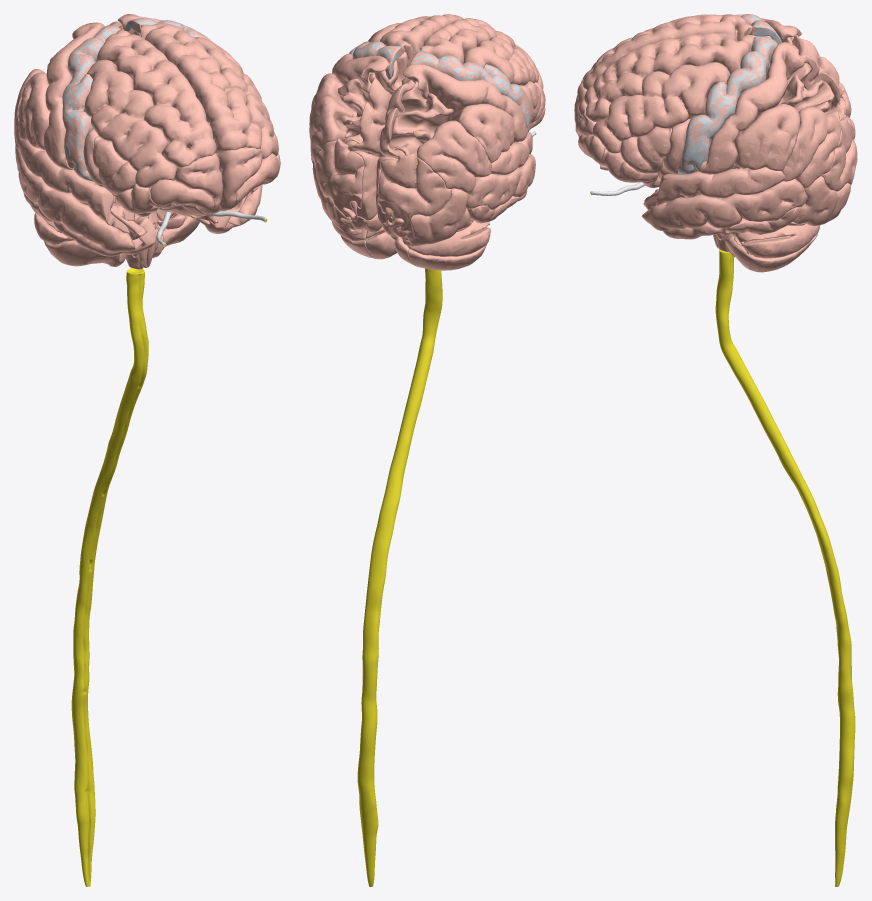
Rendered from nervous.glb.
The picture shows the model from 3 angles, left to right: view 1: azimuth 30°, elevation 25°; view 2: azimuth 150°, elevation 25°; view 3: azimuth 270°, elevation 25°; orthographic projection. The views are drawn at different scales.
Visible parts, largest first — view 1: superior-frontal-gyrus, middle-frontal-gyrus, superior-frontal-gyrus-2, middle-temporal-gyrus, superior-temporal-gyrus, postcentral-gyrus, precentral-gyrus, middle-frontal-gyrus-2, hra10-allen-primary-motor-cortex-l, allen-supramarginal-gyrus-l, allen-rostral-gyrus-r, allen-lateral-hemisphere-of-cerebellum-l (+12 smaller); view 2: superior-occipital-gyrus, allen-angular-gyrus-l, postcentral-gyrus, allen-white-matter-of-forebrain-l, superior-occipital-gyrus-2, allen-lateral-hemisphere-of-cerebellum-l, allen-supramarginal-gyrus-l, allen-white-matter-of-forebrain-r, inferior-occipital-gyrus, middle-frontal-gyrus, superior-frontal-gyrus, middle-temporal-gyrus (+23 smaller); view 3: middle-frontal-gyrus-2, superior-frontal-gyrus-2, middle-temporal-gyrus-2, postcentral-gyrus-2, allen-supramarginal-gyrus-r, allen-angular-gyrus-r, superior-temporal-gyrus-2, hra10-allen-primary-motor-cortex-r, allen-lateral-hemisphere-of-cerebellum-r, superior-frontal-gyrus, precentral-gyrus-2, allen-white-matter-of-forebrain-r (+8 smaller).
Part boxes in pixels (box(x1,y1,x2,y2)): superior-frontal-gyrus: box(96, 30, 216, 167); middle-frontal-gyrus: box(84, 59, 177, 187); superior-frontal-gyrus-2: box(140, 23, 262, 154); middle-temporal-gyrus: box(15, 147, 142, 252); superior-temporal-gyrus: box(18, 139, 129, 234); postcentral-gyrus: box(43, 22, 104, 169); precentral-gyrus: box(62, 25, 120, 180); middle-frontal-gyrus-2: box(195, 37, 278, 158); hra10-allen-primary-motor-cortex-l: box(62, 25, 119, 181); allen-supramarginal-gyrus-l: box(18, 72, 50, 150); allen-rostral-gyrus-r: box(217, 147, 262, 210); allen-lateral-hemisphere-of-cerebellum-l: box(34, 213, 118, 266); superior-occipital-gyrus: box(378, 153, 451, 228); allen-angular-gyrus-l: box(417, 120, 491, 192); postcentral-gyrus: box(403, 64, 527, 142); allen-white-matter-of-forebrain-l: box(385, 77, 453, 240); superior-occipital-gyrus-2: box(315, 138, 364, 217); allen-lateral-hemisphere-of-cerebellum-l: box(408, 221, 490, 270); allen-supramarginal-gyrus-l: box(451, 103, 514, 163); allen-white-matter-of-forebrain-r: box(338, 51, 407, 229); inferior-occipital-gyrus: box(401, 188, 472, 246); middle-frontal-gyrus: box(463, 36, 543, 88); superior-frontal-gyrus: box(420, 18, 519, 64); middle-temporal-gyrus: box(466, 154, 535, 209); middle-frontal-gyrus-2: box(592, 62, 730, 153); superior-frontal-gyrus-2: box(584, 33, 753, 122); middle-temporal-gyrus-2: box(641, 178, 807, 230); postcentral-gyrus-2: box(698, 42, 804, 174); allen-supramarginal-gyrus-r: box(733, 104, 800, 171); allen-angular-gyrus-r: box(782, 107, 841, 188); superior-temporal-gyrus-2: box(653, 167, 785, 206); hra10-allen-primary-motor-cortex-r: box(678, 36, 776, 174); allen-lateral-hemisphere-of-cerebellum-r: box(721, 223, 819, 272); superior-frontal-gyrus: box(582, 14, 752, 89); precentral-gyrus-2: box(678, 36, 777, 173); allen-white-matter-of-forebrain-r: box(643, 63, 852, 209).
Bounding box in the file's own units: 0.1363 × 0.5552 × 0.1659.
